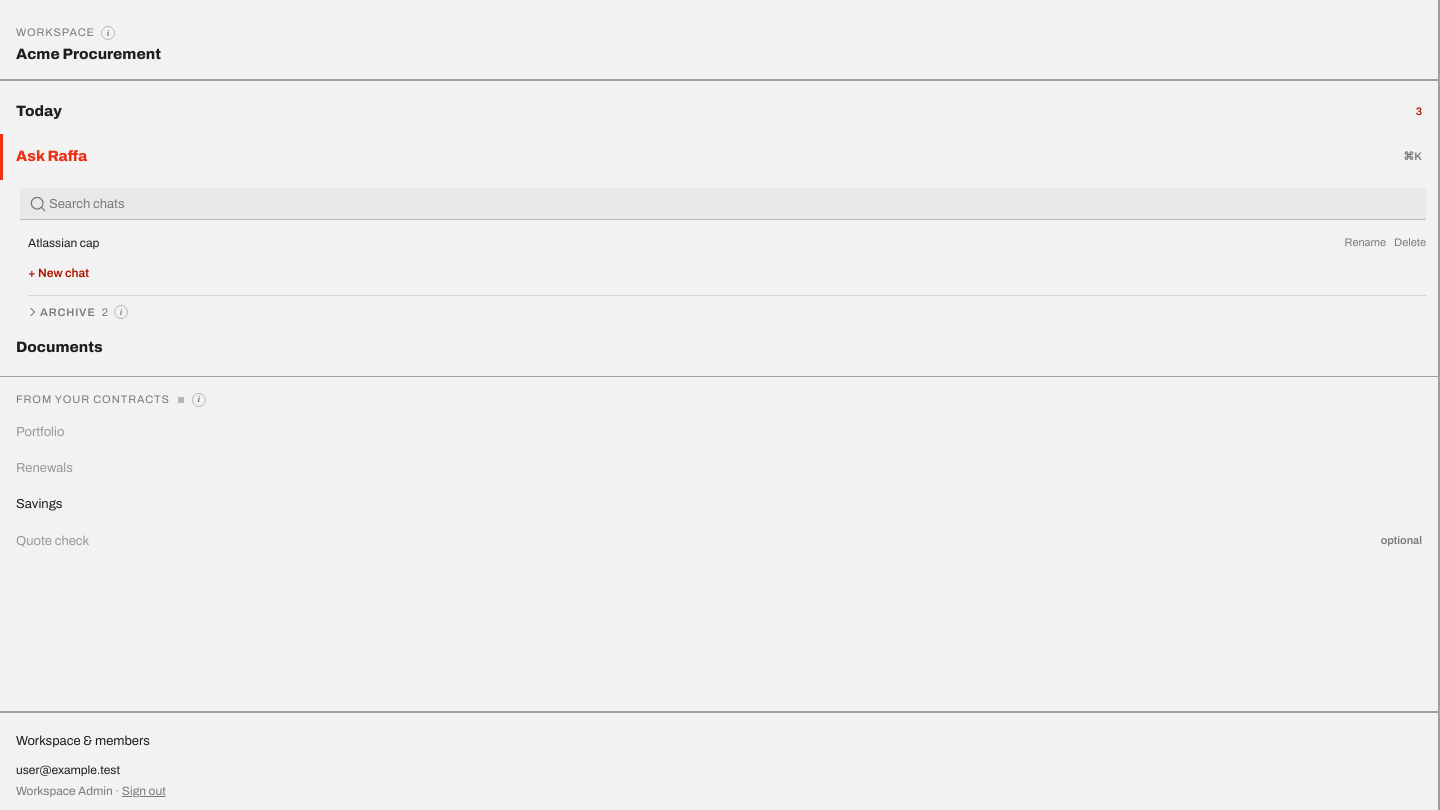
RailNav (V2 two-tier rail, ADR-024 amendment; task E13/F09/US01/T01, gap G-IA-V2) › archive and search › opens the archive to list its chats with the day each was last used
The width and height of the screenshot is (1440, 810).
Click the button "Archive 2" at (68, 312), box 28,302 -> 108,323
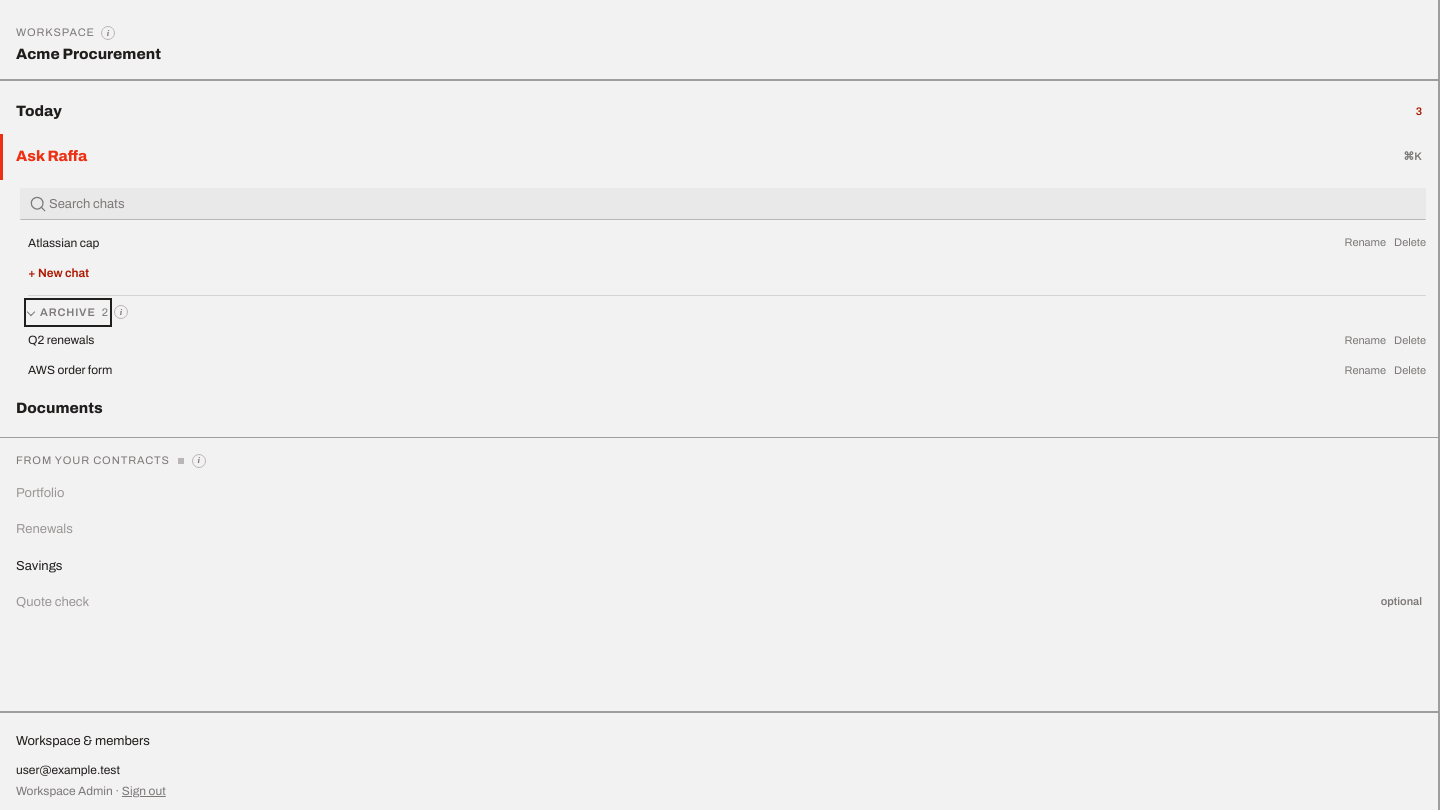
Now the button "Archive 2" is expanded, box 28,302 -> 108,323
Now the link "Q2 renewals 2 Sep" is shown, box 28,332 -> 1438,347
Now the link "AWS order form 20 Aug" is shown, box 28,363 -> 1438,377
